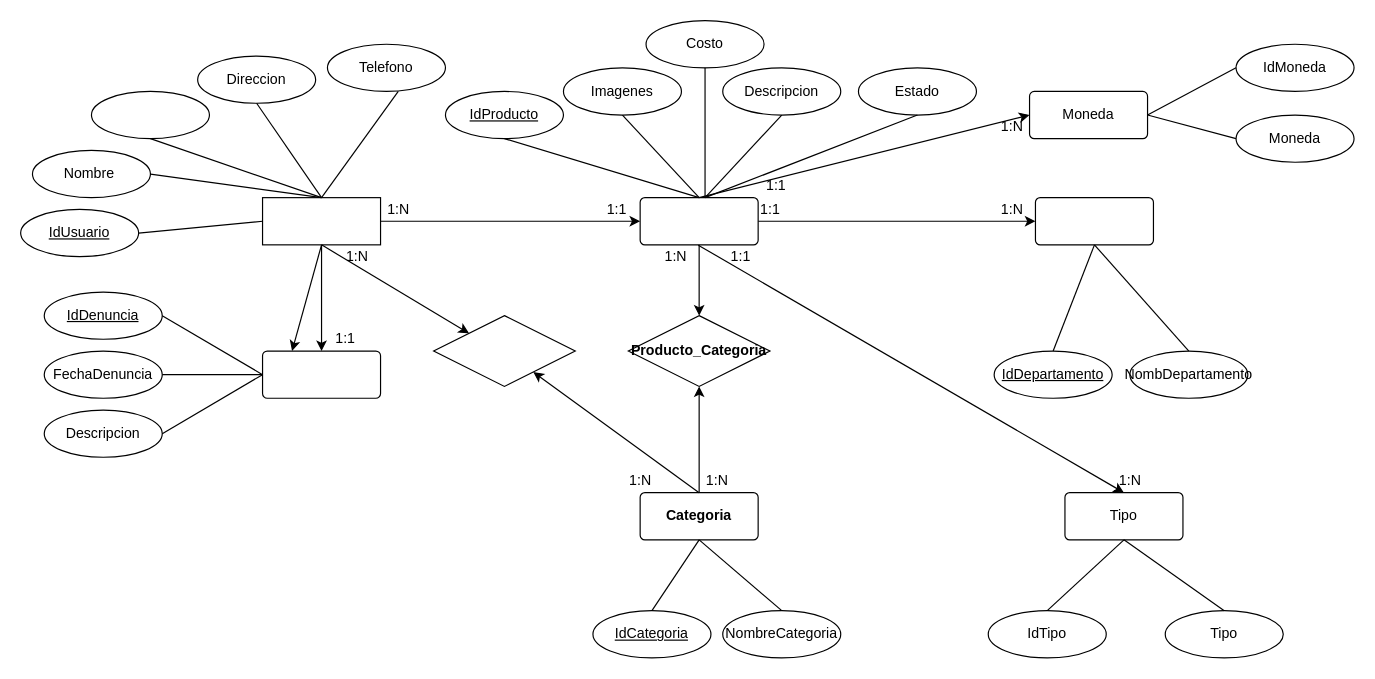
Image size: 1375x679. Some labels were removed from this diagram. Here are the shapes that lost their labels. From the top down, the centre of each, then its label:
point 149,114: Correo
point 321,220: Usuario
point 698,220: Producto
point 1093,220: Departamento
point 503,350: Cliente_Categoria
point 321,374: Denuncia
